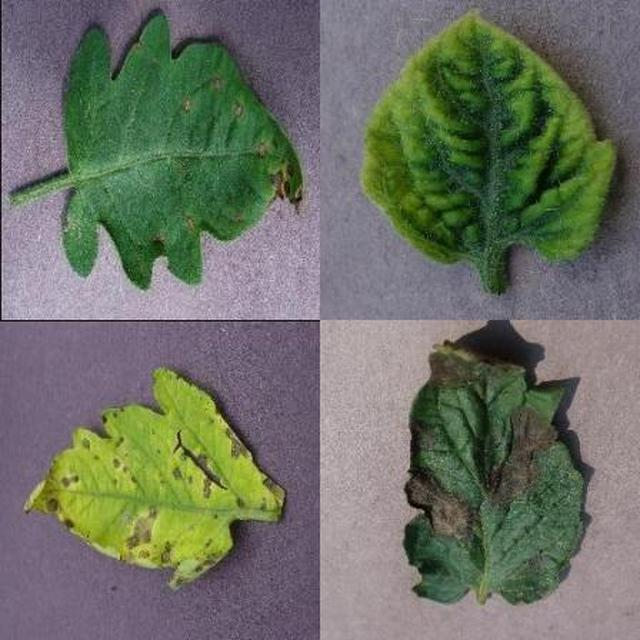Septoria Leaf: (221, 200, 640, 640)
